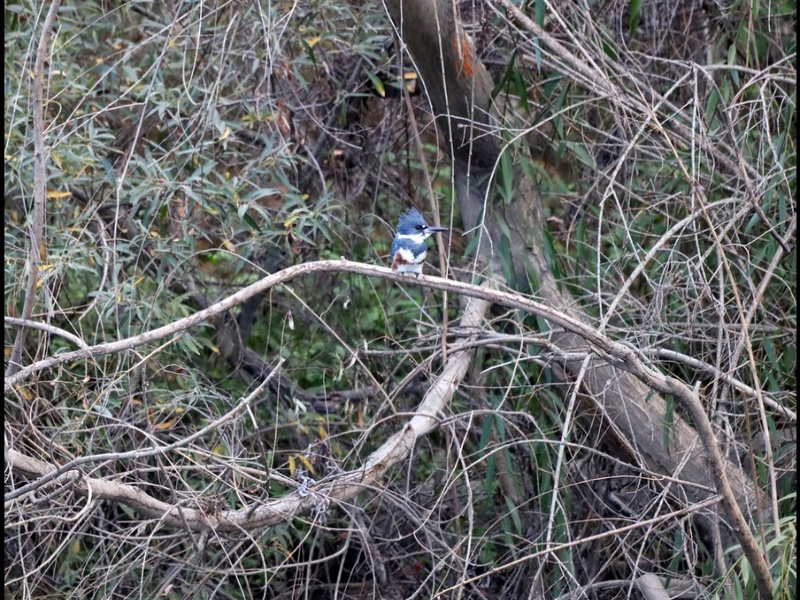kingfisher: (391, 207, 451, 282)
